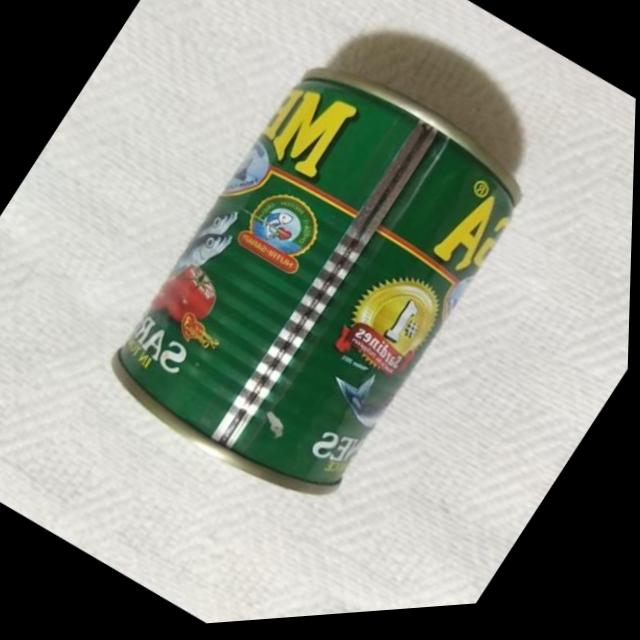metal: (118, 74, 511, 483)
